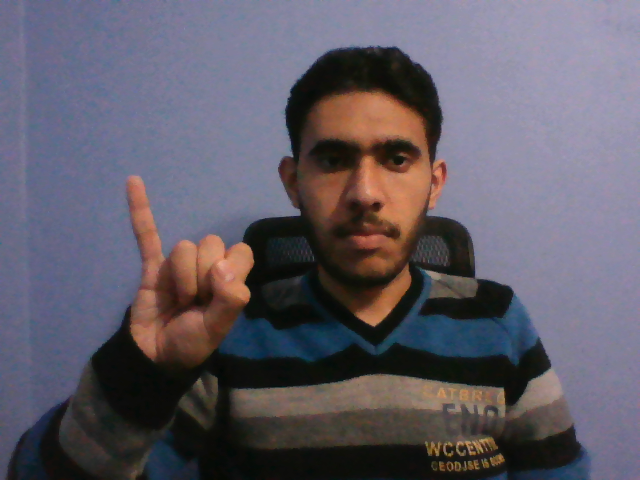I: (119, 168, 258, 373)
